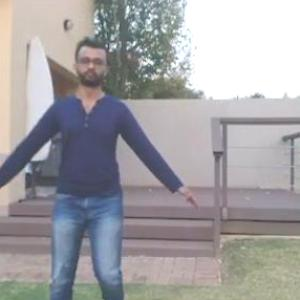land: (6, 51, 191, 299)
